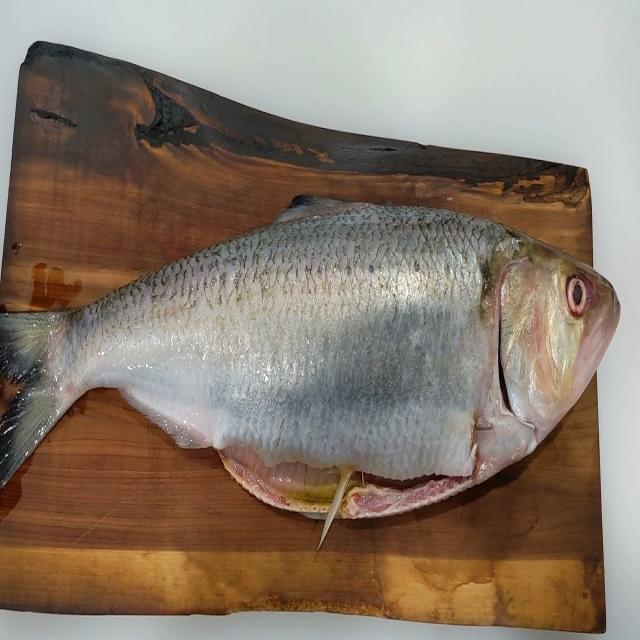Shad - American: (0, 196, 619, 543)
